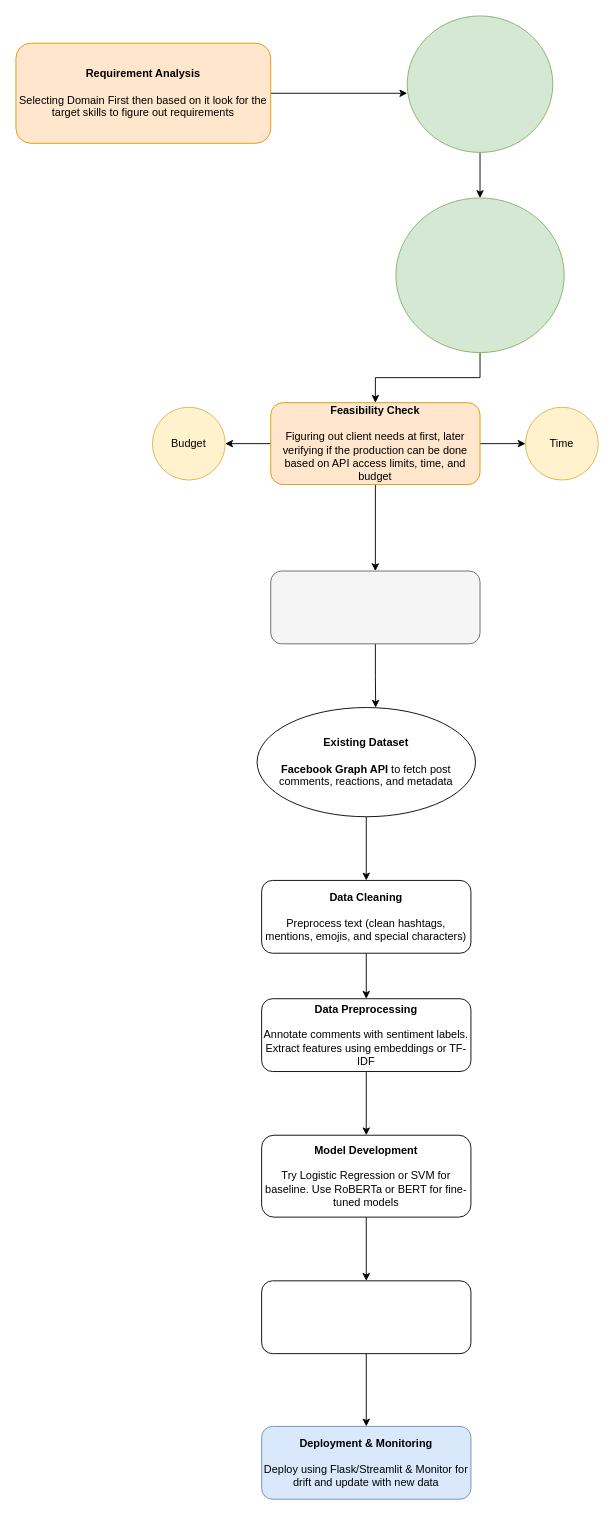
Some shapes in this 614 by 1515 pixel diagram are drawn without their labels. The shapes that lost their labels are listed below. From the top down, each one's box as (x1, y1, x2, y2) in pixels, then its label:
(406, 15, 553, 152): Domain Sentiment analysis for Facebook comments
(395, 197, 564, 353): Target Skills Python (Pandas, NumPy), API Integration
(270, 570, 480, 644): Data Collection The first phase in the production process
(261, 1280, 471, 1354): Model Evalution F1-Score, ROC-AUC, Precision, Sentiment Distribution Matrix
